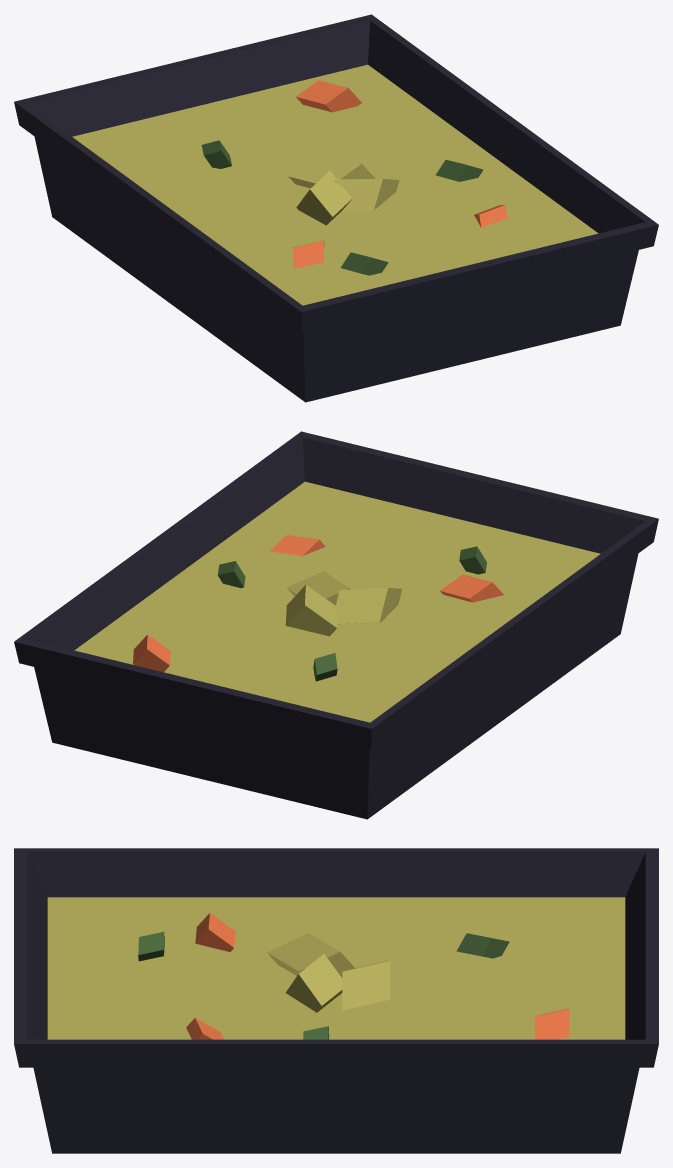
Rendered from Sopas.fbx.
The picture shows the model from 3 angles, top to bottom: view 1: azimuth 30°, elevation 25°; view 2: azimuth 150°, elevation 25°; view 3: azimuth 270°, elevation 25°; orthographic projection. The views are drawn at different scales.
Parts seen in each view (by area): view 1: Sopas; view 2: Sopas; view 3: Sopas.
Part boxes in pixels (x1,y1,x2,y2): Sopas: [14, 14, 658, 402]; Sopas: [14, 431, 658, 819]; Sopas: [14, 848, 658, 1153].
Bounding box in the file's own units: 95.05 × 132 × 27.51.
